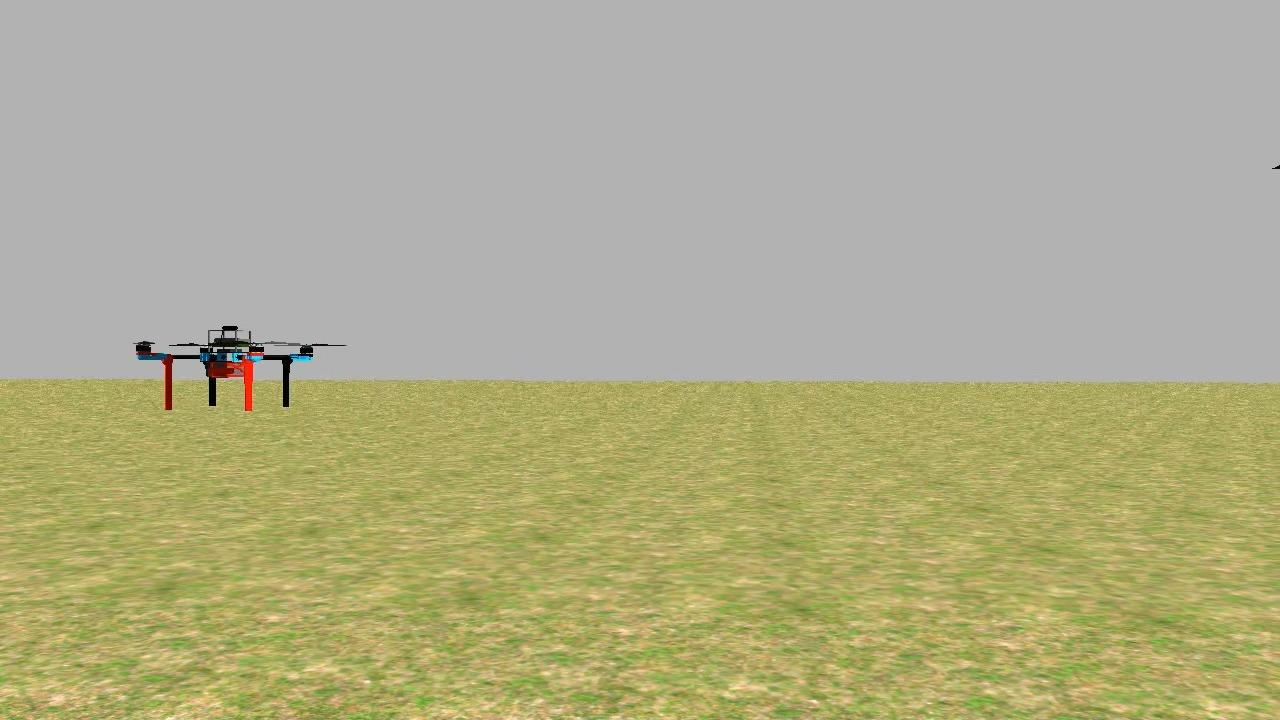UAV: (130, 315, 320, 430)
